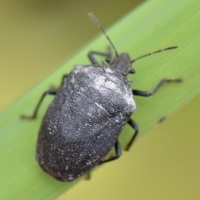insect: (21, 13, 181, 180)
